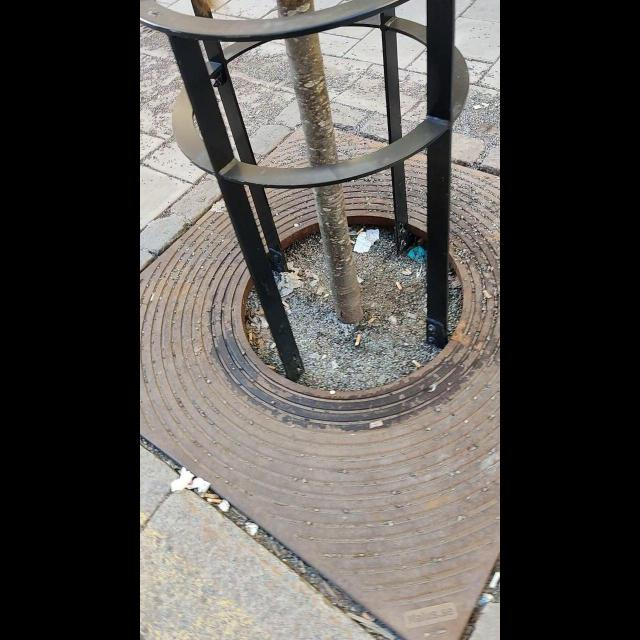cigarette: (480, 288, 493, 300), (200, 490, 219, 498), (369, 420, 384, 429), (355, 333, 363, 348), (411, 358, 421, 368), (368, 317, 377, 327), (356, 226, 364, 237), (404, 265, 412, 274), (393, 282, 402, 290), (247, 332, 253, 342), (207, 499, 222, 503), (282, 301, 290, 308), (265, 364, 276, 369), (348, 239, 355, 246)
